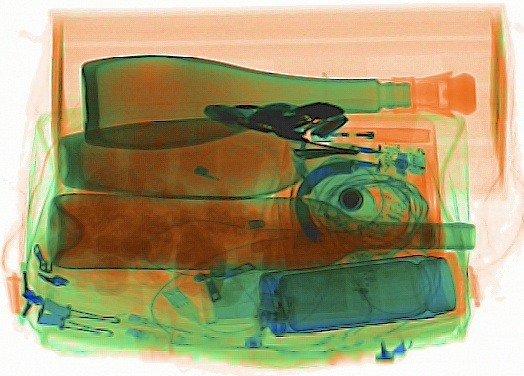lighter: (311, 123, 427, 144)
